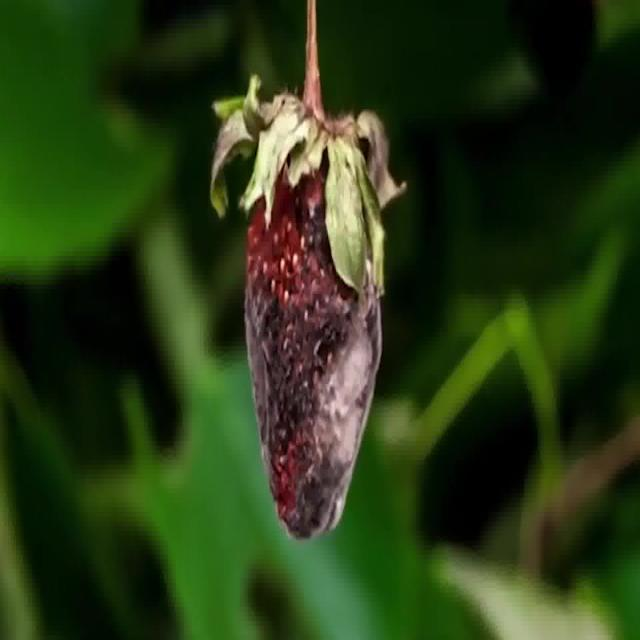Moho gris: (240, 186, 396, 554)
